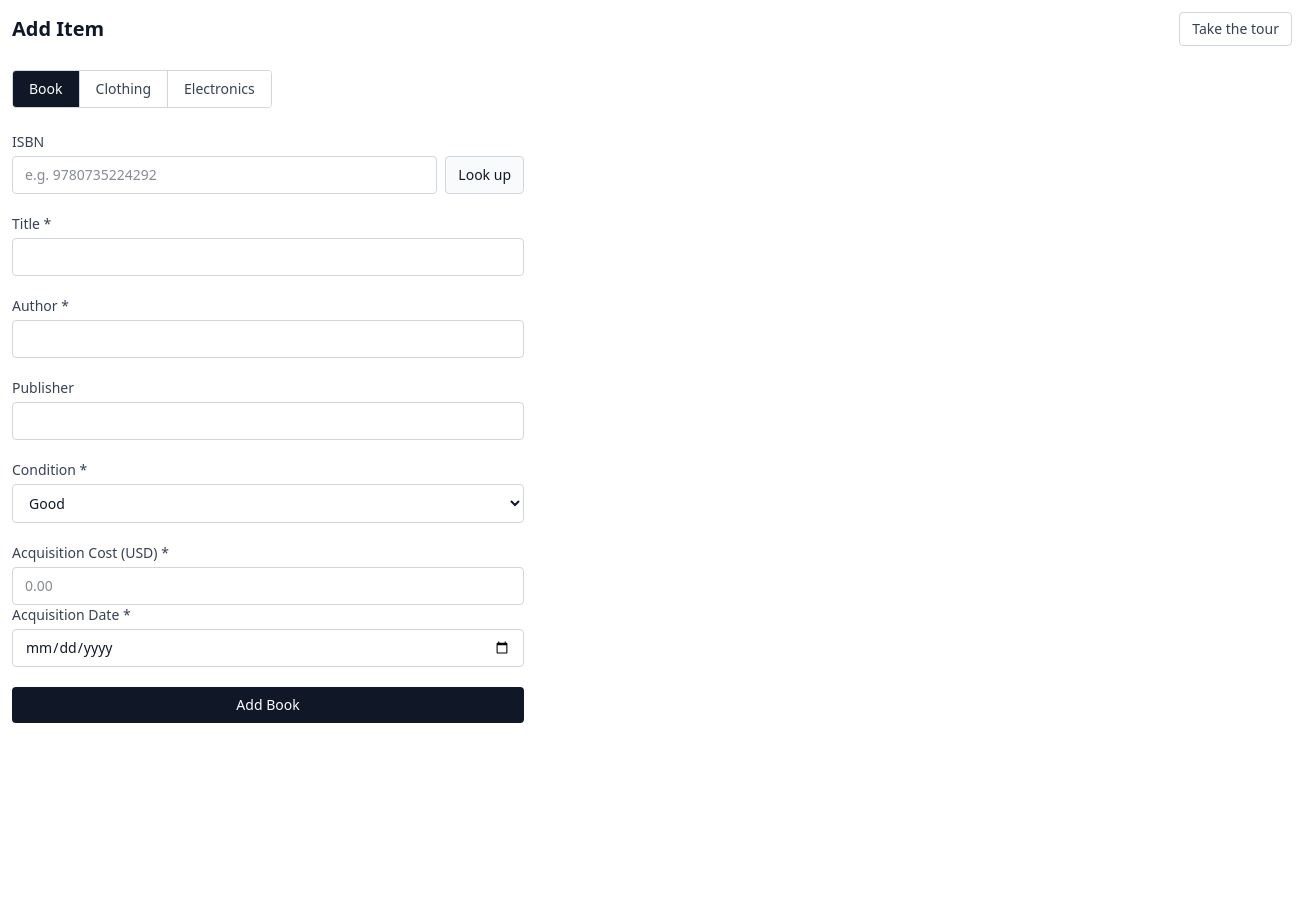
Test case: AddItemPage › switches back to the Book form when the Book tab is clicked again
Click the button "Clothing" at (123, 89), box [78,71,167,107]
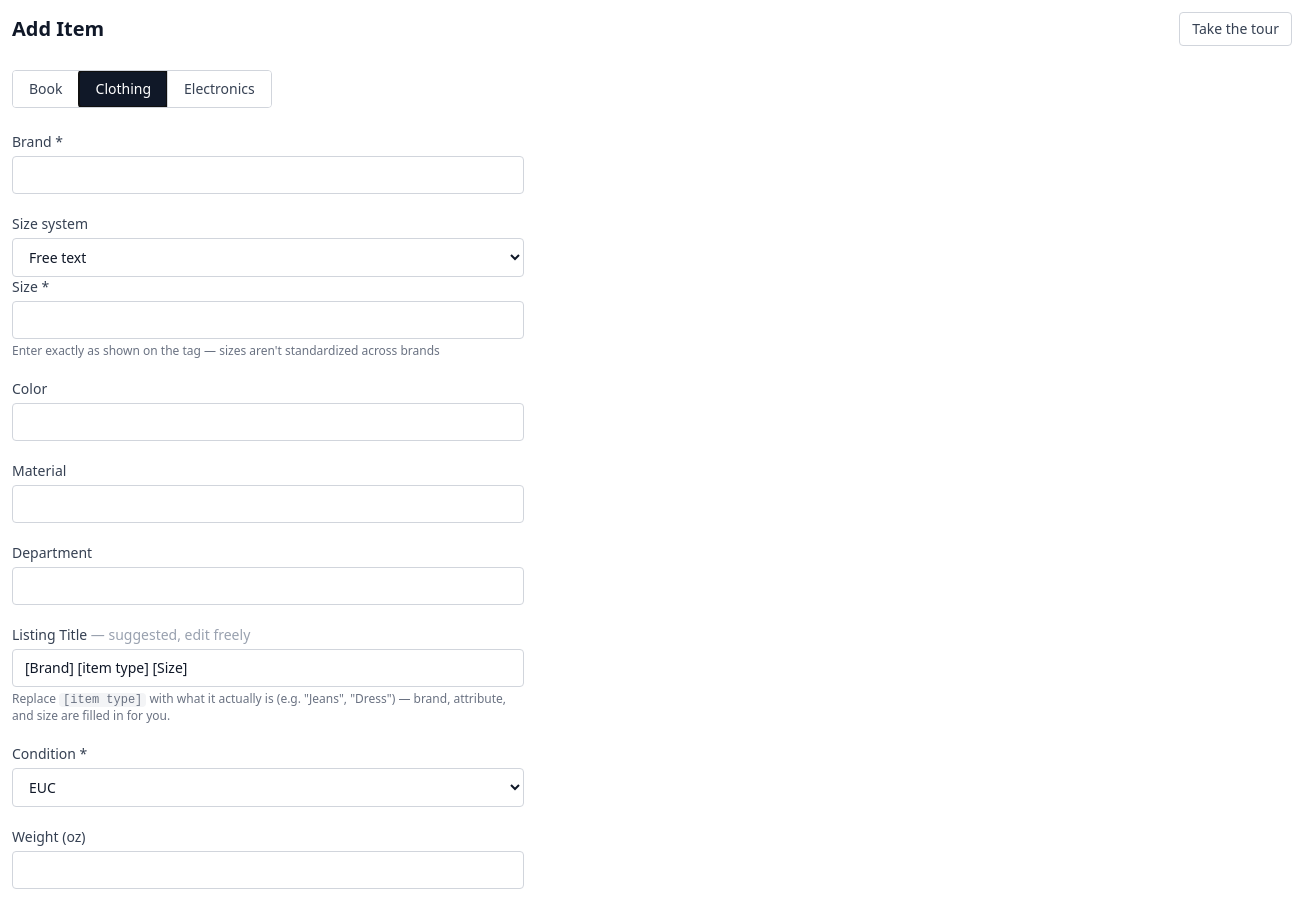
Now the text "Brand *" is shown, box [12,132,63,151]
Click the button "Book" at (46, 89), box [13,71,78,107]
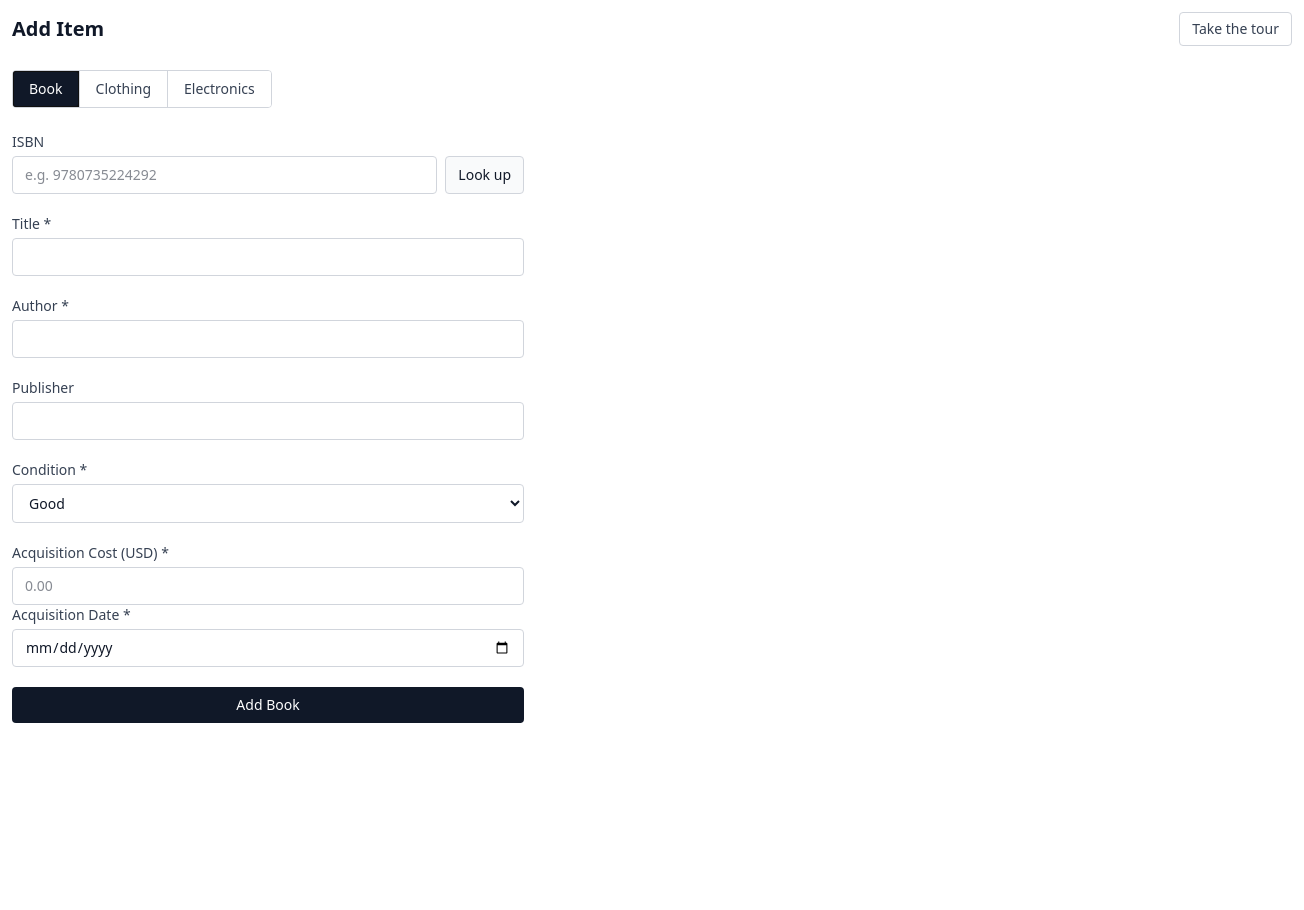
Now the text "Author *" is shown, box [12,296,69,315]
Now the text "Brand *" is gone
